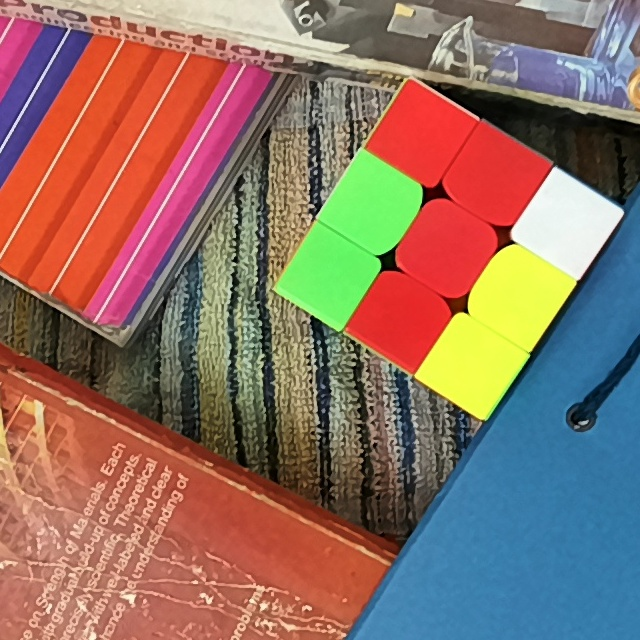tile: (418, 217, 479, 275), (464, 148, 522, 208), (490, 263, 548, 323), (441, 337, 502, 391), (393, 105, 448, 164), (346, 174, 402, 230), (541, 192, 595, 249), (304, 245, 358, 302), (374, 291, 426, 346)
